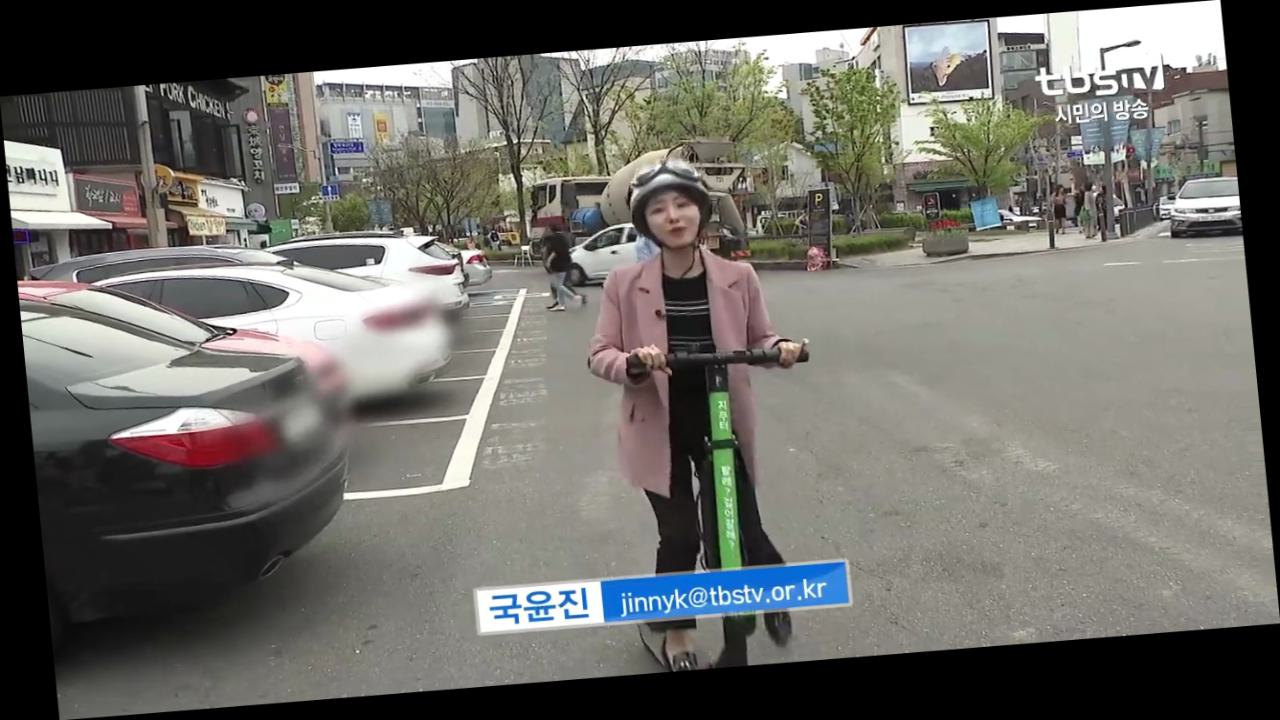helmet: (566, 144, 843, 676)
